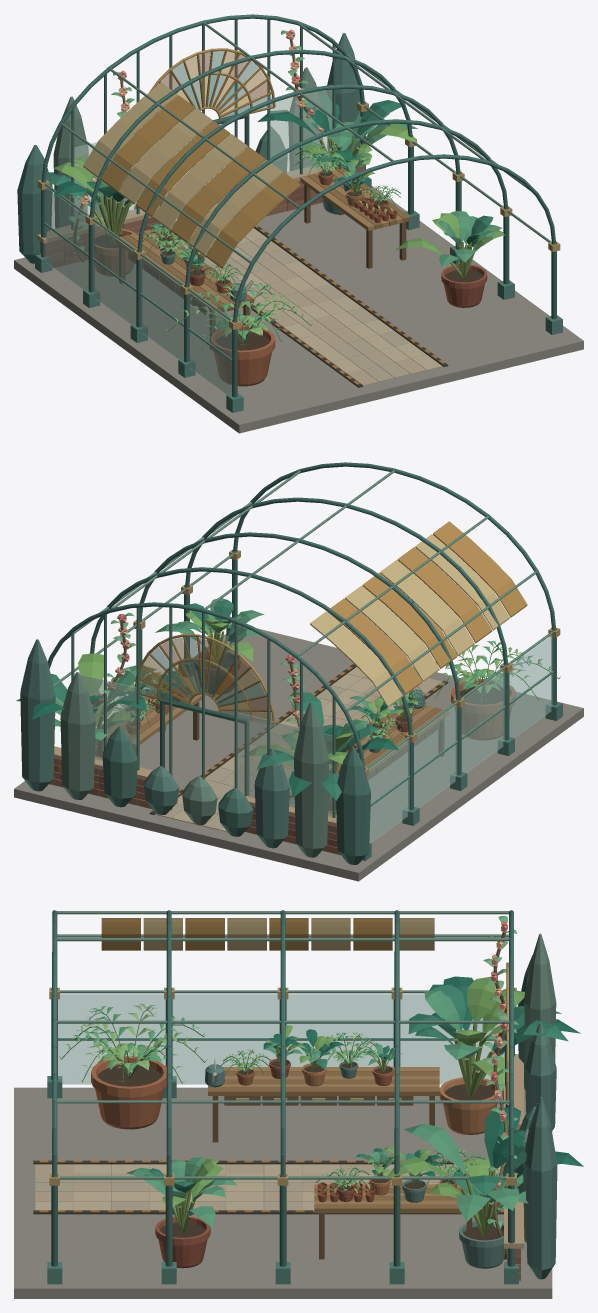
Rendered from botanical_glasshouse.glb.
3 renders of one model, top to bottom at view 1: azimuth 30°, elevation 25°; view 2: azimuth 150°, elevation 25°; view 3: azimuth 270°, elevation 25°, orthographic. The views are drawn at different scales.
Visible parts, largest first — view 1: 01 Masonry, joinery and nursery pots, 02 Cast iron ribs and crest, 04 Planted beds, vines and tree line, 03 North and west glazing; view 2: 01 Masonry, joinery and nursery pots, 04 Planted beds, vines and tree line, 02 Cast iron ribs and crest, 03 North and west glazing; view 3: 01 Masonry, joinery and nursery pots, 04 Planted beds, vines and tree line, 02 Cast iron ribs and crest, 03 North and west glazing.
Part boxes in pixels (x1,y1,x2,y2): 01 Masonry, joinery and nursery pots: [14, 82, 583, 433]; 02 Cast iron ribs and crest: [35, 14, 562, 412]; 04 Planted beds, vines and tree line: [17, 29, 504, 349]; 03 North and west glazing: [45, 51, 332, 394]; 01 Masonry, joinery and nursery pots: [14, 521, 583, 881]; 04 Planted beds, vines and tree line: [16, 598, 560, 864]; 02 Cast iron ribs and crest: [48, 462, 562, 860]; 03 North and west glazing: [74, 635, 552, 842]; 01 Masonry, joinery and nursery pots: [14, 918, 552, 1298]; 04 Planted beds, vines and tree line: [59, 916, 583, 1279]; 02 Cast iron ribs and crest: [47, 910, 518, 1284]; 03 North and west glazing: [58, 994, 504, 1084].
Size of the model in its own units: 8.46 by 4.6 by 9.11.
